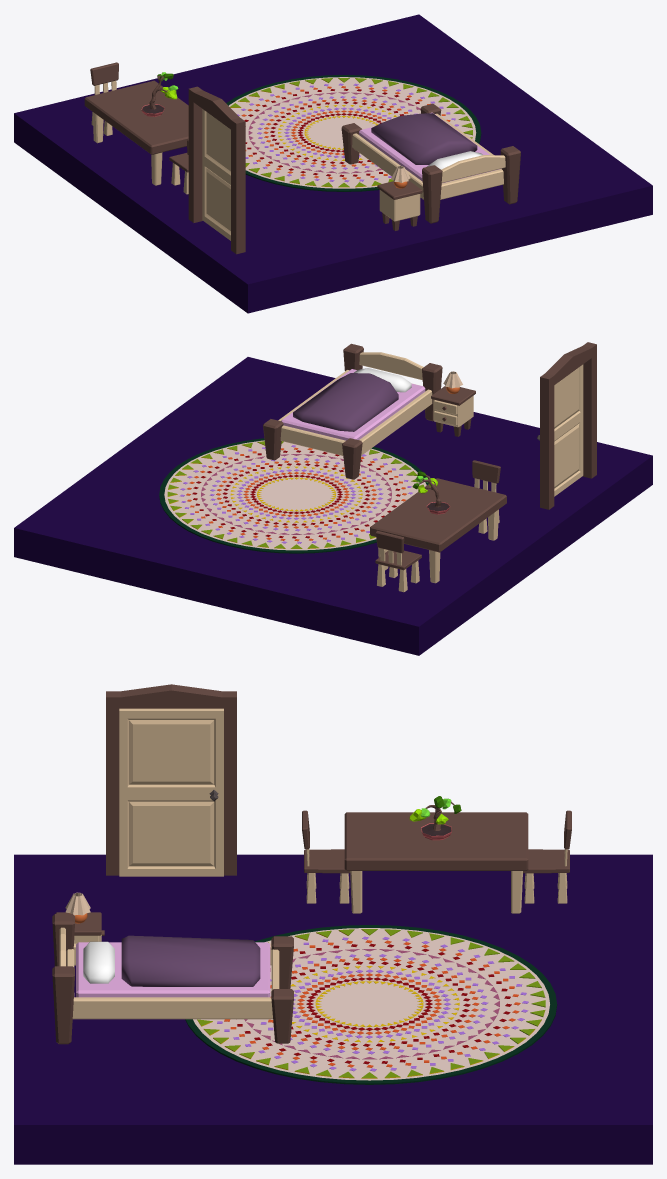
File: Bettraum.fbx
The picture shows the model from 3 angles, top to bottom: view 1: azimuth 30°, elevation 25°; view 2: azimuth 150°, elevation 25°; view 3: azimuth 270°, elevation 25°; orthographic projection. The views are drawn at different scales.
Parts seen in each view (by area): view 1: Boden, Teppich, Tür, Tisch, Cube.007, Cube.051, Cube.016, Cylinder.005, Cube.003, Cube.002, Cube.004, Cube.001 (+6 smaller); view 2: Boden, Teppich, Tisch, Cube.051, Tür, Cube.007, Cube.016, Cylinder.005, Cube.005, Cube.002, Cube, Cube.003 (+10 smaller); view 3: Boden, Teppich, Cube.016, Tisch, Cube.051, Tür, Cube.007, Cylinder.005, Cube.002, Cube.005, Cube.003, Cube (+4 smaller).
Part boxes in pixels (<box>): Boden: <box>14,14,652,313</box>; Teppich: <box>226,75,481,191</box>; Tür: <box>188,86,245,254</box>; Tisch: <box>84,80,188,154</box>; Cube.007: <box>371,113,477,164</box>; Cube.051: <box>237,83,458,182</box>; Cube.016: <box>202,109,230,240</box>; Cylinder.005: <box>230,78,472,187</box>; Cube.003: <box>422,146,520,223</box>; Cube.002: <box>352,113,493,199</box>; Cube.004: <box>441,155,505,182</box>; Cube.001: <box>440,169,503,199</box>; Boden: <box>14,357,652,655</box>; Teppich: <box>159,438,428,553</box>; Tisch: <box>370,478,506,552</box>; Cube.051: <box>180,445,412,543</box>; Tür: <box>540,342,596,509</box>; Cube.007: <box>293,373,398,431</box>; Cube.016: <box>554,364,583,496</box>; Cylinder.005: <box>167,441,424,548</box>; Cube.005: <box>281,369,425,440</box>; Cube.002: <box>278,370,432,455</box>; Cube: <box>263,419,362,479</box>; Cube.003: <box>343,343,442,421</box>; Boden: <box>14,854,652,1164</box>; Teppich: <box>185,925,557,1084</box>; Cube.016: <box>119,708,223,876</box>; Tisch: <box>344,812,528,870</box>; Cube.051: <box>217,936,528,1071</box>; Tür: <box>106,684,236,875</box>; Cube.007: <box>121,935,260,986</box>; Cylinder.005: <box>197,929,545,1078</box>; Cube.002: <box>72,943,272,1019</box>; Cube.005: <box>76,942,270,997</box>; Cube.003: <box>52,914,74,1044</box>; Cube: <box>271,936,293,1043</box>.
Bounding box in the file's own units: 2912 × 2912 × 1132.
